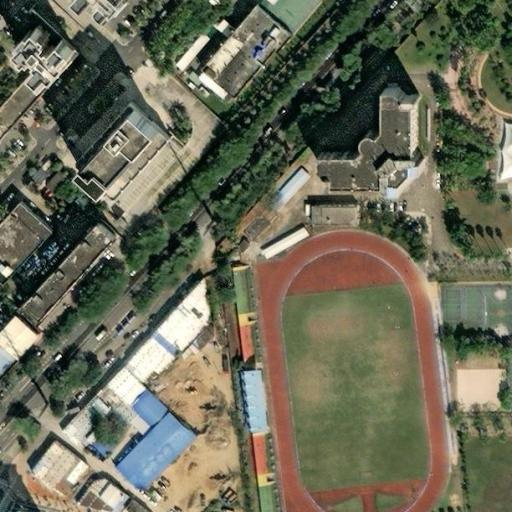building: (336, 99, 443, 205), (16, 225, 112, 327), (117, 279, 202, 383), (198, 7, 288, 102), (71, 113, 151, 193), (108, 410, 186, 491), (13, 28, 70, 84), (228, 262, 257, 360), (25, 455, 72, 503), (233, 368, 266, 435), (0, 79, 38, 136), (251, 0, 314, 34), (259, 167, 302, 216), (120, 385, 162, 428), (38, 440, 81, 479), (249, 228, 298, 259), (55, 412, 94, 450), (106, 398, 144, 436), (0, 316, 31, 362), (100, 368, 137, 404), (165, 32, 199, 70), (80, 0, 135, 22), (491, 124, 512, 180), (137, 475, 171, 509), (66, 474, 101, 507), (39, 164, 71, 197), (93, 483, 117, 508), (84, 398, 106, 420), (83, 435, 104, 457), (80, 495, 106, 512), (207, 18, 228, 38), (118, 499, 136, 512), (98, 388, 113, 402), (133, 508, 141, 512)
